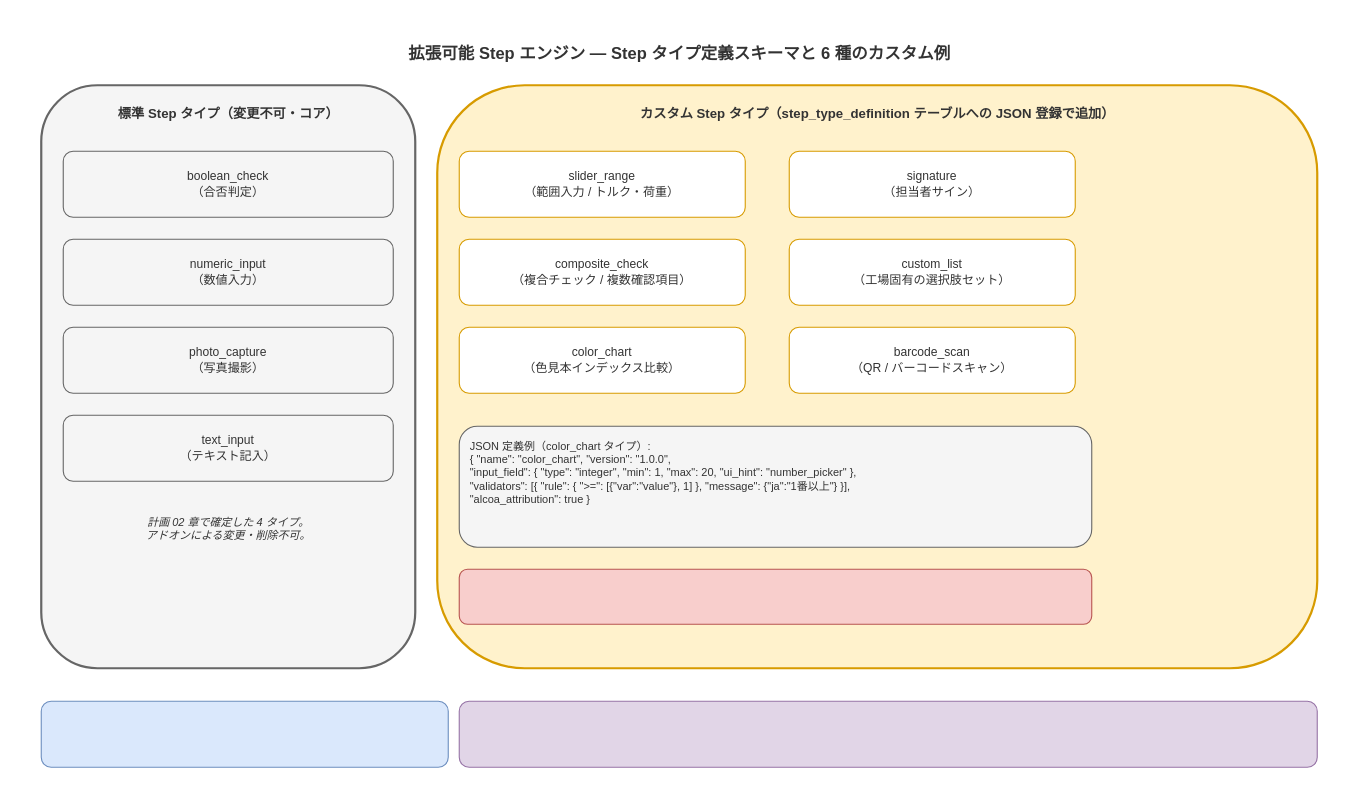
Some shapes in this 1357 by 807 pixel diagram are drawn without their labels. The shapes that lost their labels are listed below. From the top down, each one's centre as x and y in pixels, then its label:
the point at 775,596: eval / Function constructor 禁止 — JSON Logic（宣言的ロジック）のみ許容。外部 API 呼び出し禁止。
the point at 244,733: Offline-First 維持 定義 JSON を SQLite にキャッシュ → Wi-Fi 断絶時もカスタム Step が動作する
the point at 887,733: ALCOA+ 整合: カスタム Step の入力値・スキップ記録は 標準 Step と同一の Append-only イベントストアに格納する（18 章参照）
